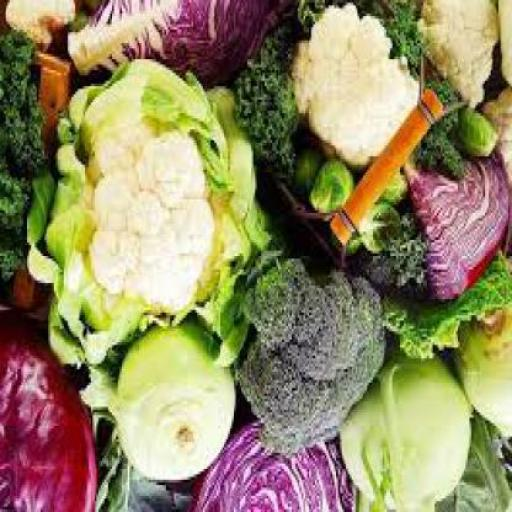biodegradable: (1, 1, 511, 511), (31, 54, 261, 377), (242, 258, 386, 458), (83, 323, 239, 488), (298, 3, 421, 175), (66, 3, 282, 97), (344, 358, 476, 511), (1, 315, 100, 511), (407, 159, 511, 305), (384, 256, 511, 366), (198, 426, 358, 511), (2, 27, 46, 288), (417, 2, 502, 111), (238, 30, 302, 174), (459, 277, 511, 444), (96, 426, 196, 511), (436, 420, 510, 510), (369, 221, 431, 305), (425, 86, 470, 188), (2, 2, 82, 52), (482, 84, 511, 196), (386, 6, 425, 78), (360, 210, 408, 259), (460, 114, 500, 168), (313, 175, 355, 224), (10, 275, 54, 310), (292, 159, 324, 194), (379, 181, 414, 213), (336, 229, 366, 261), (294, 2, 323, 32), (502, 2, 511, 90)
